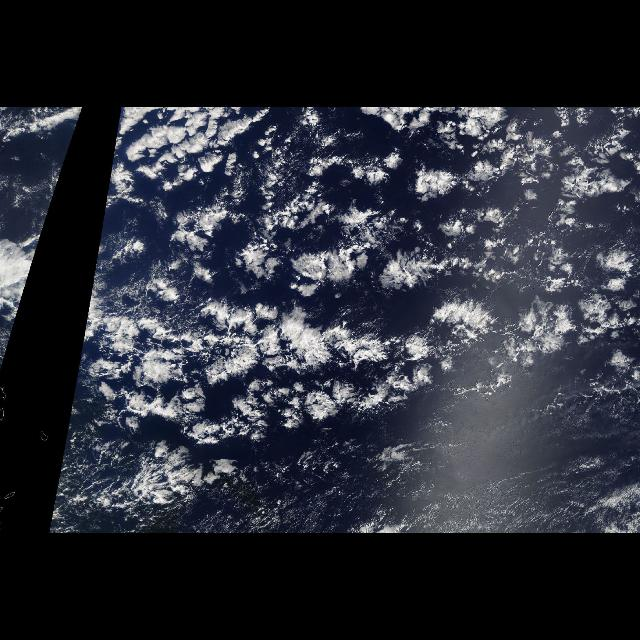Flower: (90, 108, 638, 504)
Sugar: (187, 432, 639, 530)
